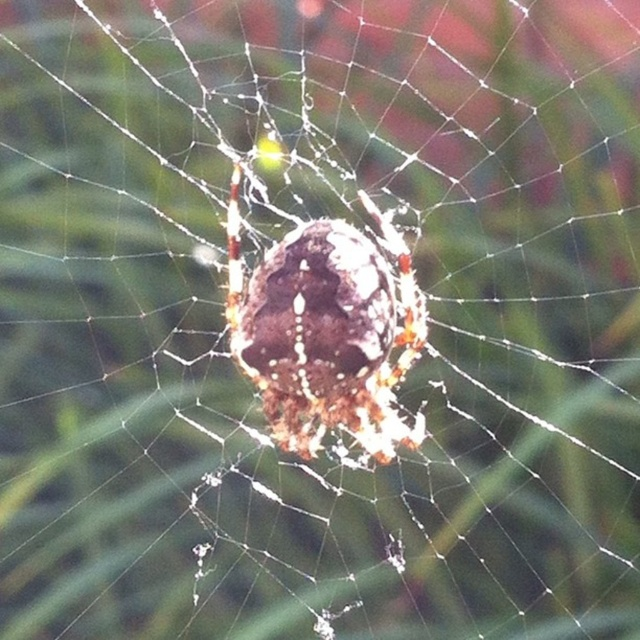Spider: (226, 165, 430, 470)
